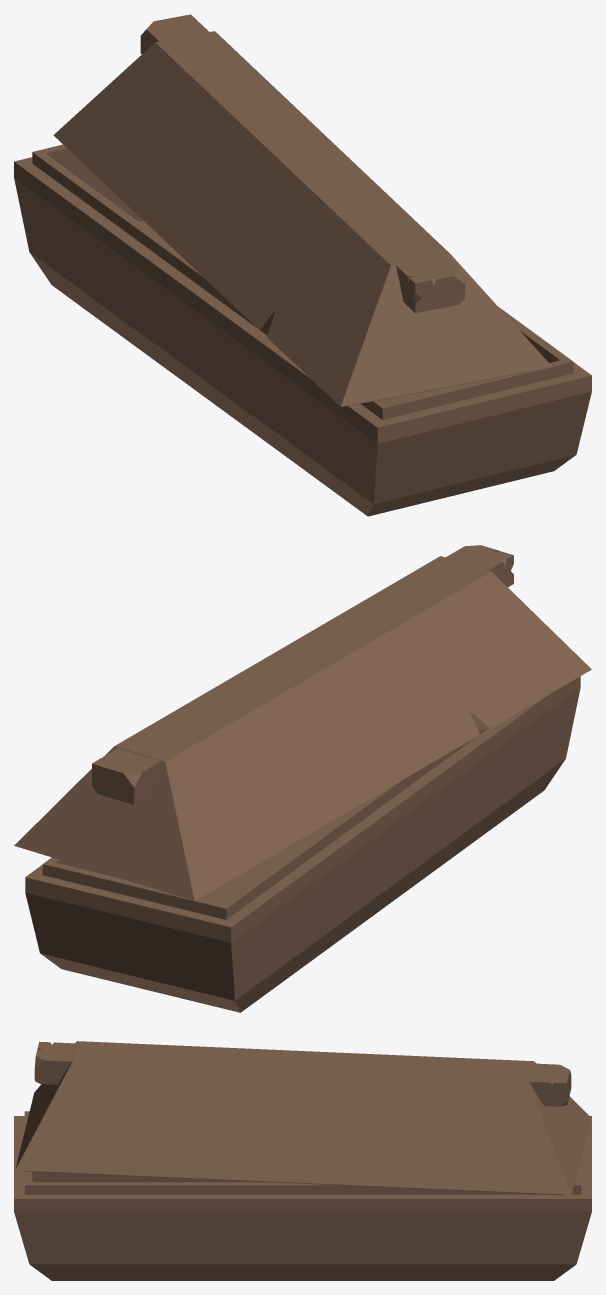
File: WoodenCoffin.fbx
3 views of the same model, one above another, from view 1: azimuth 30°, elevation 25°; view 2: azimuth 150°, elevation 25°; view 3: azimuth 270°, elevation 25° (orthographic). The views are drawn at different scales.
Visible parts, largest first — view 1: Cube; view 2: Cube; view 3: Cube.
Boxes of the visible parts, left/top/right/bottom form: Cube: left=14, top=14, right=591, bottom=516; Cube: left=14, top=545, right=591, bottom=1012; Cube: left=14, top=1041, right=591, bottom=1280.
Bounding box in the file's own units: 262 × 218 × 627.
